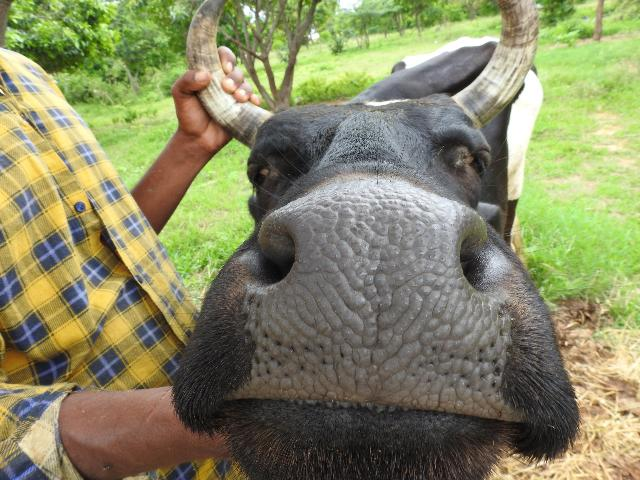Muzzle: (264, 200, 501, 412)
